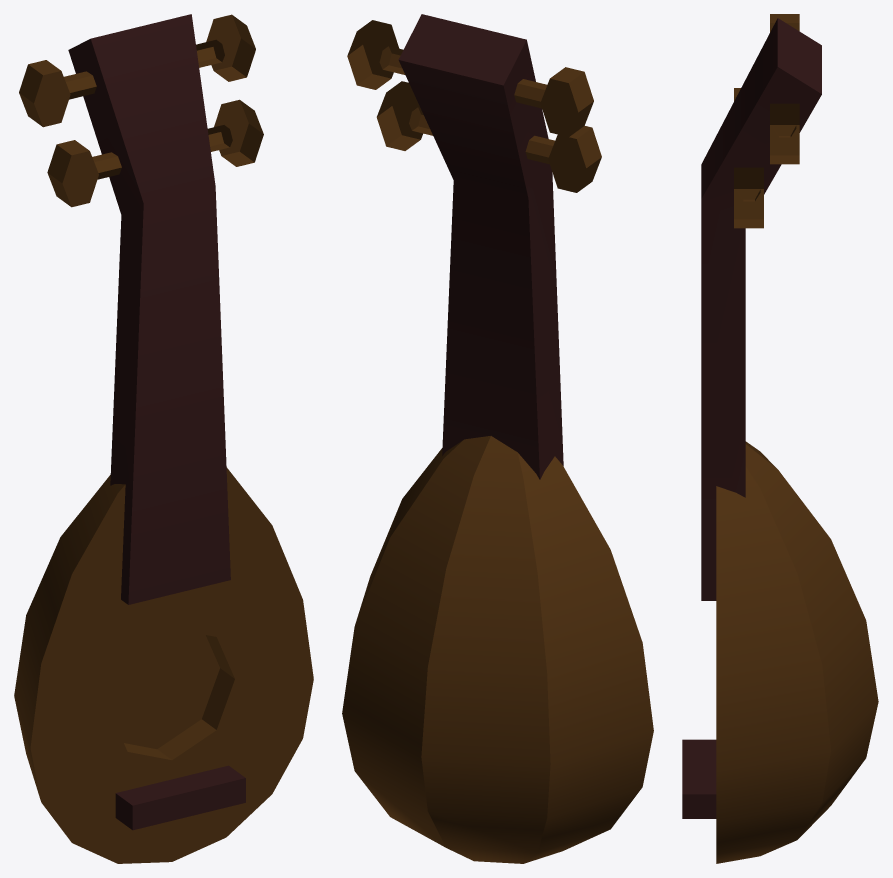
Rendered from lute.glb.
3 views of the same model, side by side, from view 1: azimuth 30°, elevation 25°; view 2: azimuth 150°, elevation 25°; view 3: azimuth 270°, elevation 25° (orthographic). The views are drawn at different scales.
Visible parts, largest first — view 1: Cylinder.003; view 2: Cylinder.003; view 3: Cylinder.003.
Boxes of the visible parts, bbox=[...] form: Cylinder.003: bbox=[14, 14, 313, 863]; Cylinder.003: bbox=[342, 14, 653, 863]; Cylinder.003: bbox=[682, 14, 878, 863].
Bounding box in the file's own units: 2 × 5.48 × 1.21.
Materials: 1 (1 with a texture image).
